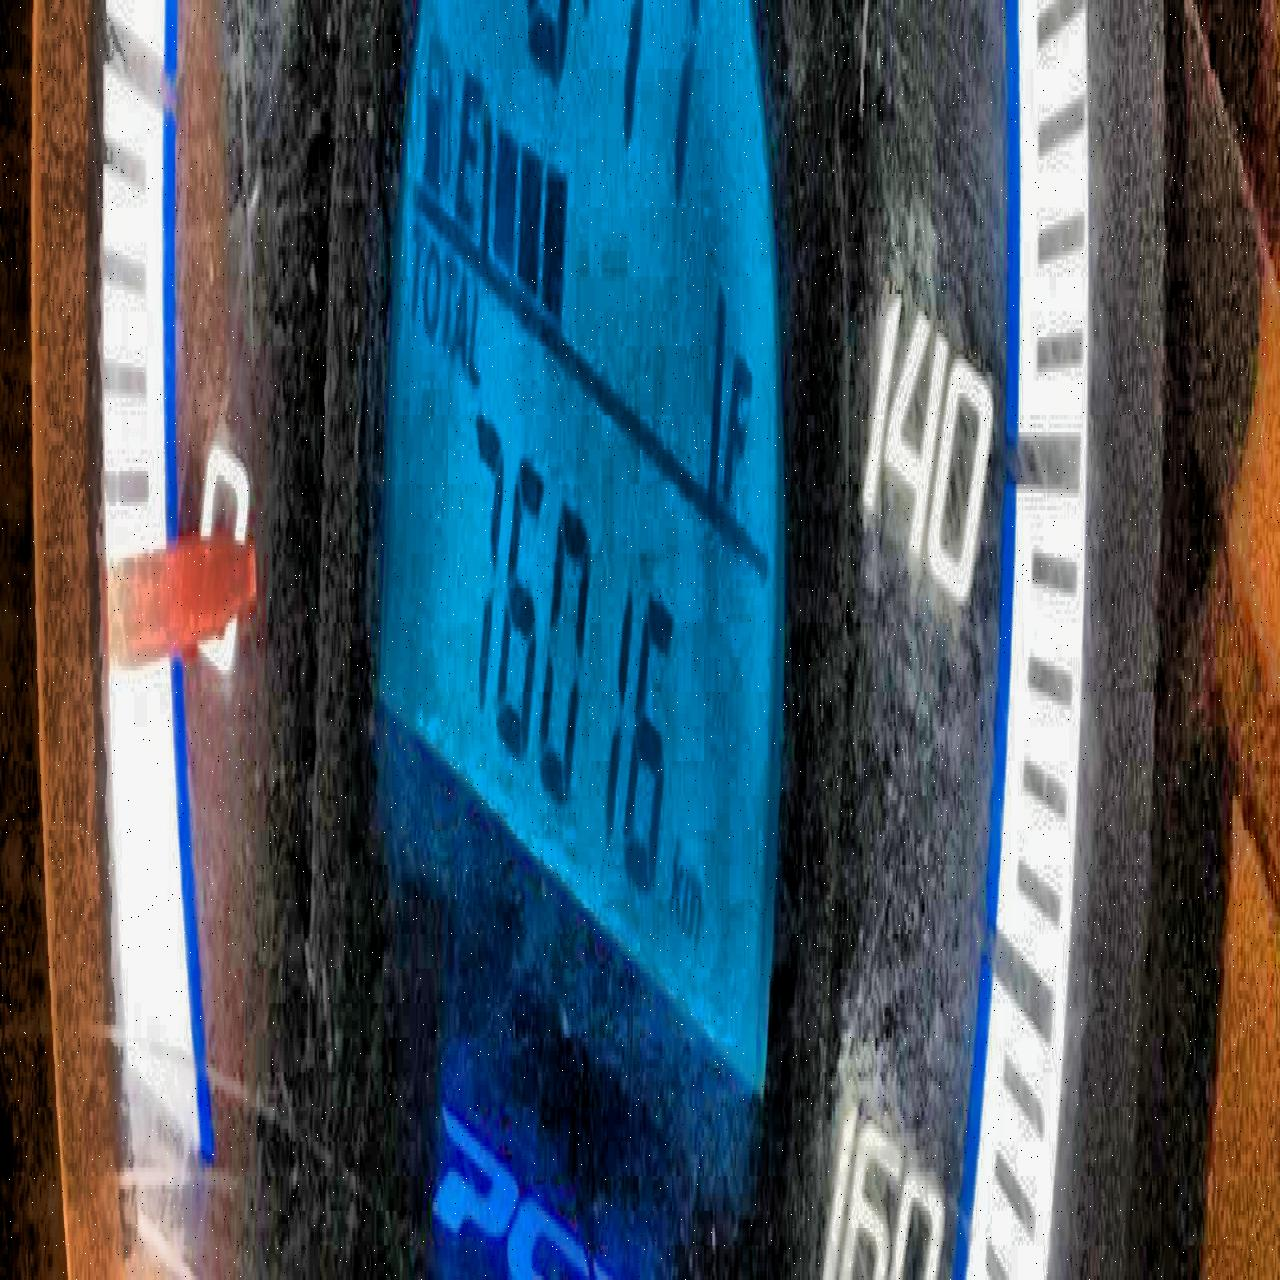0: (540, 489, 590, 791)
1: (605, 553, 631, 835)
6: (626, 553, 669, 891), (496, 433, 536, 761)
7: (474, 402, 504, 704)
X: (726, 328, 754, 506), (454, 47, 481, 225), (409, 195, 425, 325), (468, 277, 483, 407), (423, 238, 441, 346), (681, 865, 702, 952), (442, 229, 456, 350), (454, 264, 467, 384), (670, 826, 681, 917)
odometer: (374, 0, 790, 1116)
